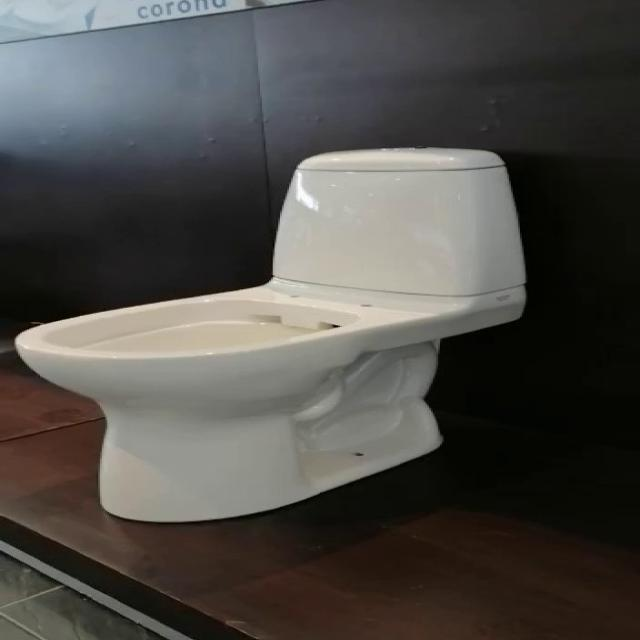toilet: (12, 143, 533, 530)
